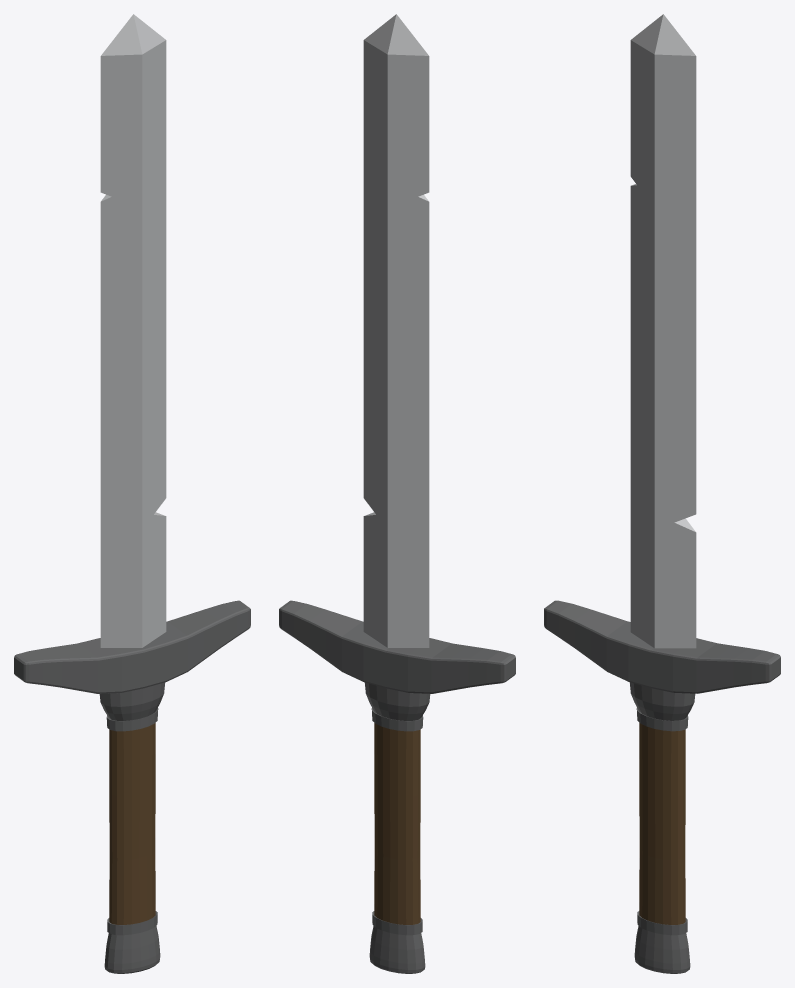
Rendered from Stalowy miecz.fbx.
3 views of the same model, side by side, from view 1: azimuth 30°, elevation 25°; view 2: azimuth 150°, elevation 25°; view 3: azimuth 330°, elevation 25° (orthographic).
Parts seen in each view (by area): view 1: Blade, Handle, Guard; view 2: Blade, Handle, Guard; view 3: Blade, Handle, Guard.
Part boxes in pixels (x1,y1,x2,y2): Blade: (100,14,166,647); Handle: (99,682,165,973); Guard: (14,600,250,693); Blade: (363,14,429,647); Handle: (364,682,430,973); Guard: (279,600,515,693); Blade: (630,14,696,648); Handle: (629,682,695,973); Guard: (544,600,780,693).
Bounding box in the file's own units: 75.68 × 303 × 13.67.
